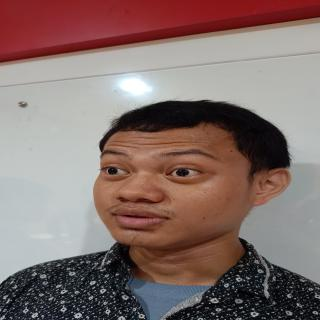Takut: (77, 126, 267, 256)
